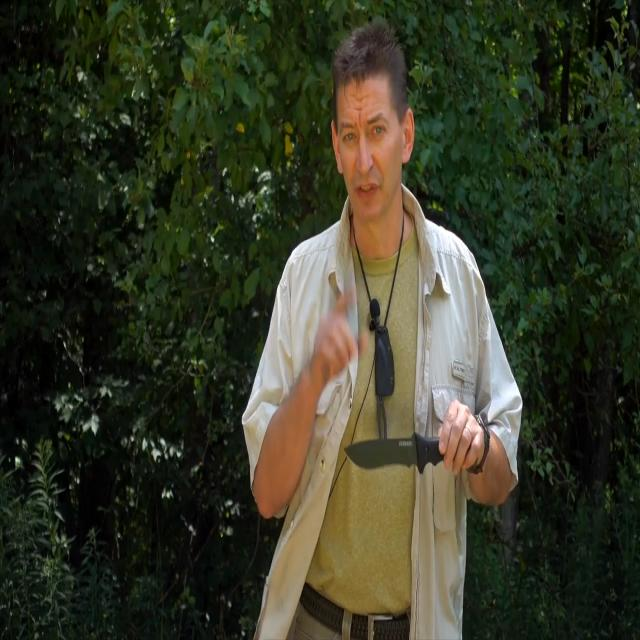knife: (344, 431, 440, 485)
